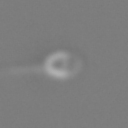normal: (1, 59, 45, 84)
